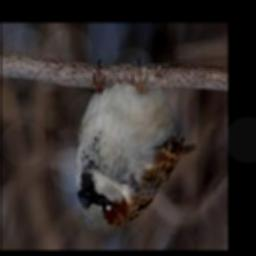Sparrow: (75, 59, 198, 232)
